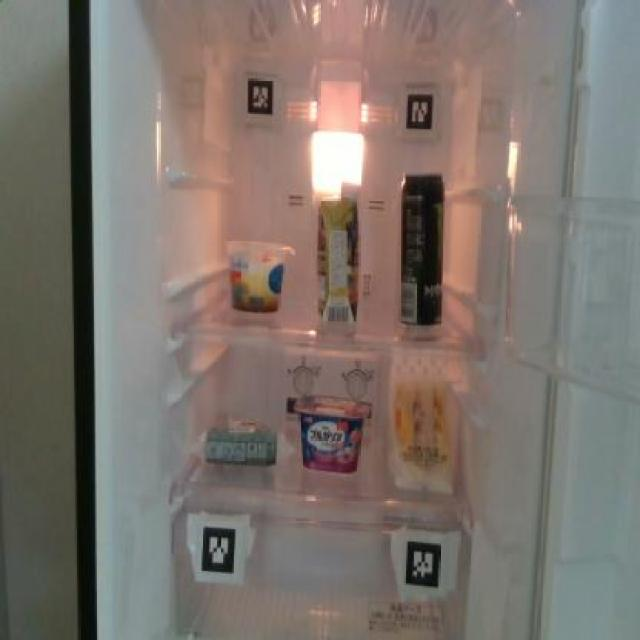energy_drink: (397, 170, 445, 328)
pudding: (222, 232, 289, 312)
rice_ball: (200, 412, 283, 470)
sandwich: (386, 349, 456, 497)
smoothie: (315, 179, 362, 327)
yogurt: (293, 393, 370, 475)
